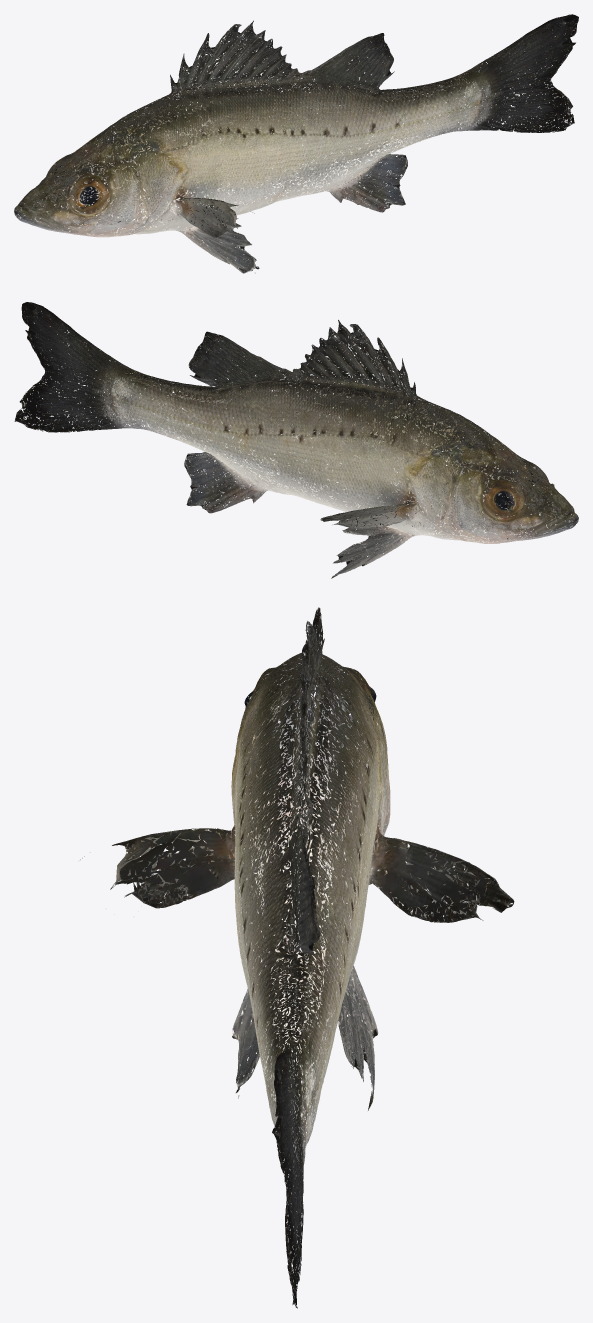
File: seabass.glb
3 renders of one model, top to bottom at view 1: azimuth 30°, elevation 25°; view 2: azimuth 150°, elevation 25°; view 3: azimuth 270°, elevation 25°, orthographic. The views are drawn at different scales.
Visible parts, largest first — view 1: Object_6, Object_11; view 2: Object_11, Object_6; view 3: Object_11, Object_6.
Boxes of the visible parts, x1,y1,x2,y2 form: Object_6: [14, 14, 578, 273]; Object_11: [14, 14, 578, 273]; Object_11: [16, 302, 578, 578]; Object_6: [14, 302, 578, 576]; Object_11: [110, 607, 514, 1304]; Object_6: [80, 608, 513, 1308].
Size of the model in its own units: 10.17 by 4.21 by 3.46.
2 materials, 2 textured.
